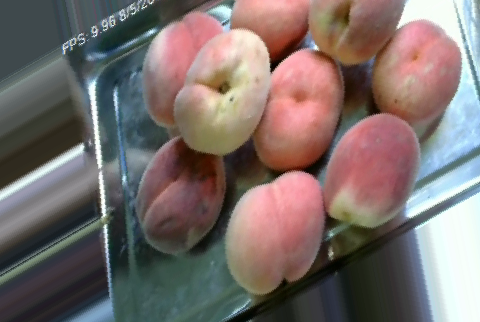Peach: (174, 25, 271, 154), (224, 172, 325, 292), (324, 113, 420, 227), (256, 49, 345, 169), (137, 136, 227, 252), (367, 18, 463, 123), (143, 11, 223, 126), (301, 0, 402, 64)
